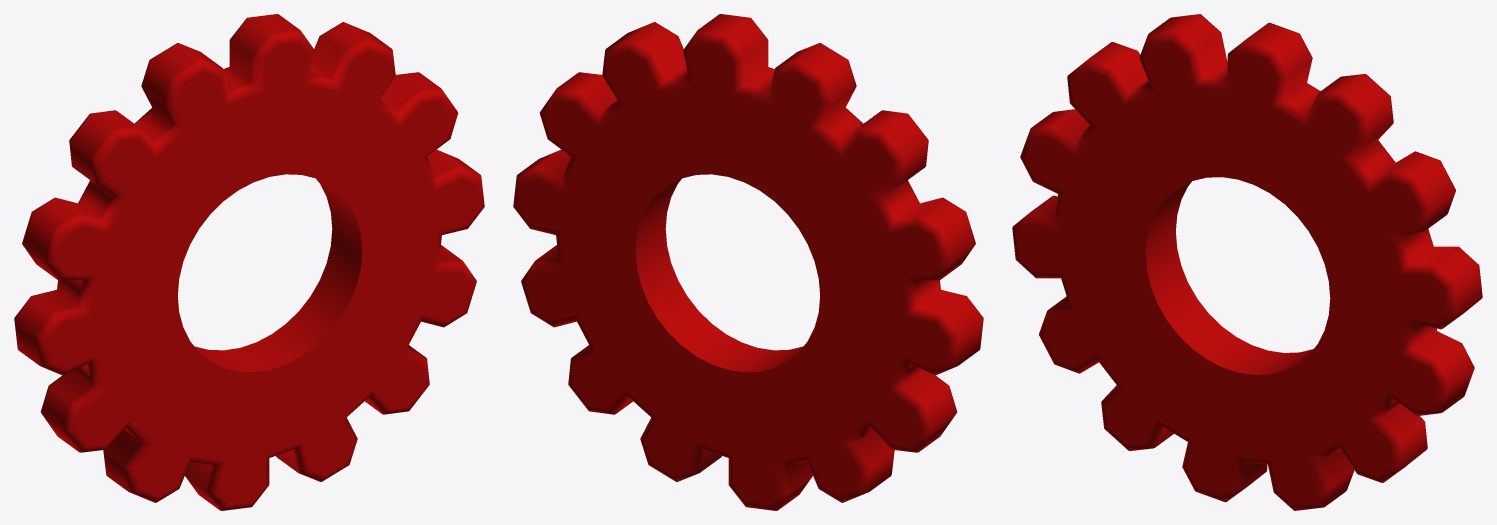
The model's file is CogwheelRed.fbx.
3 renders of one model, left to right at view 1: azimuth 30°, elevation 25°; view 2: azimuth 150°, elevation 25°; view 3: azimuth 330°, elevation 25°, orthographic.
Parts seen in each view (by area): view 1: Cap 1, Rounding 1, Extrude NURBS, Oil Tank, Rounding 2; view 2: Cap 2, Rounding 2, Extrude NURBS, Oil Tank, Rounding 1; view 3: Cap 1, Rounding 1, Extrude NURBS, Oil Tank, Rounding 2.
Part boxes in pixels (left/top/right/bottom): Cap 1: left=49, top=42, right=479, bottom=504; Rounding 1: left=36, top=30, right=484, bottom=510; Extrude NURBS: left=15, top=14, right=478, bottom=509; Oil Tank: left=194, top=178, right=362, bottom=372; Rounding 2: left=14, top=14, right=457, bottom=494; Cap 2: left=518, top=42, right=948, bottom=504; Rounding 2: left=513, top=30, right=961, bottom=510; Extrude NURBS: left=519, top=14, right=982, bottom=509; Oil Tank: left=635, top=178, right=803, bottom=372; Rounding 1: left=540, top=14, right=983, bottom=494; Cap 1: left=1017, top=42, right=1447, bottom=504; Rounding 1: left=1012, top=30, right=1460, bottom=510; Extrude NURBS: left=1031, top=14, right=1481, bottom=506; Oil Tank: left=1145, top=181, right=1313, bottom=374; Rounding 2: left=1052, top=14, right=1482, bottom=490.
Bounding box in the file's own units: 4.46 × 4.46 × 0.52.
